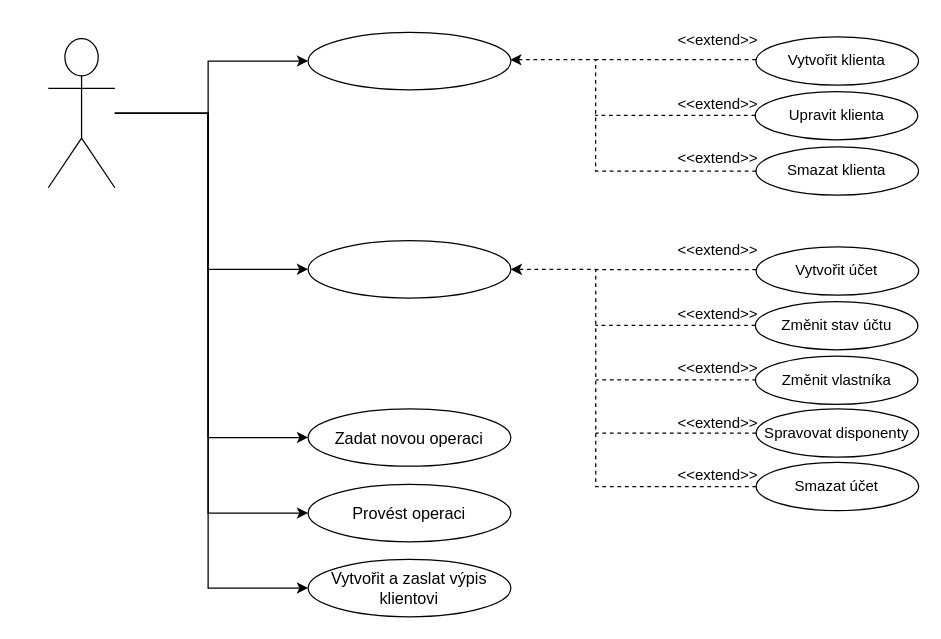
The diagram is 941 pixels wide and 639 high, and some of its shapes have lost their labels. Here are the shapes that lost their labels. From the top down, the centre of each, then its label:
At (409,60): "Spravovat klienta".
At (81,112): "Pracovník banky".
At (409,268): "Spravovat účet".
